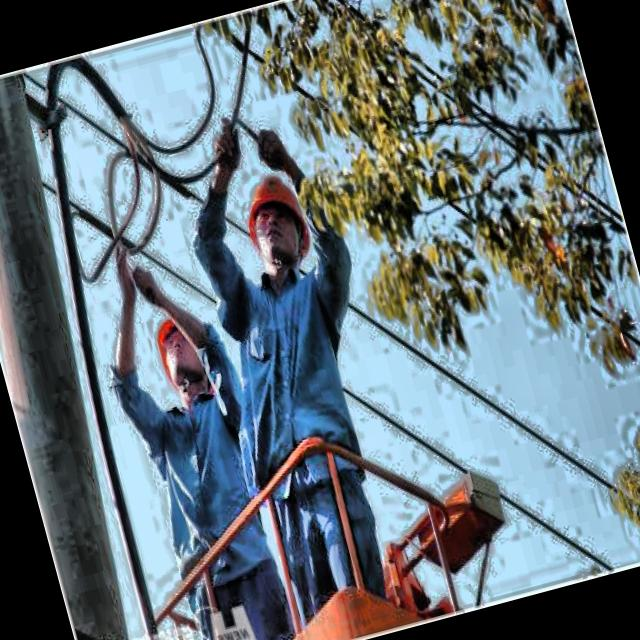helmet: (227, 156, 327, 289), (145, 302, 209, 402)
